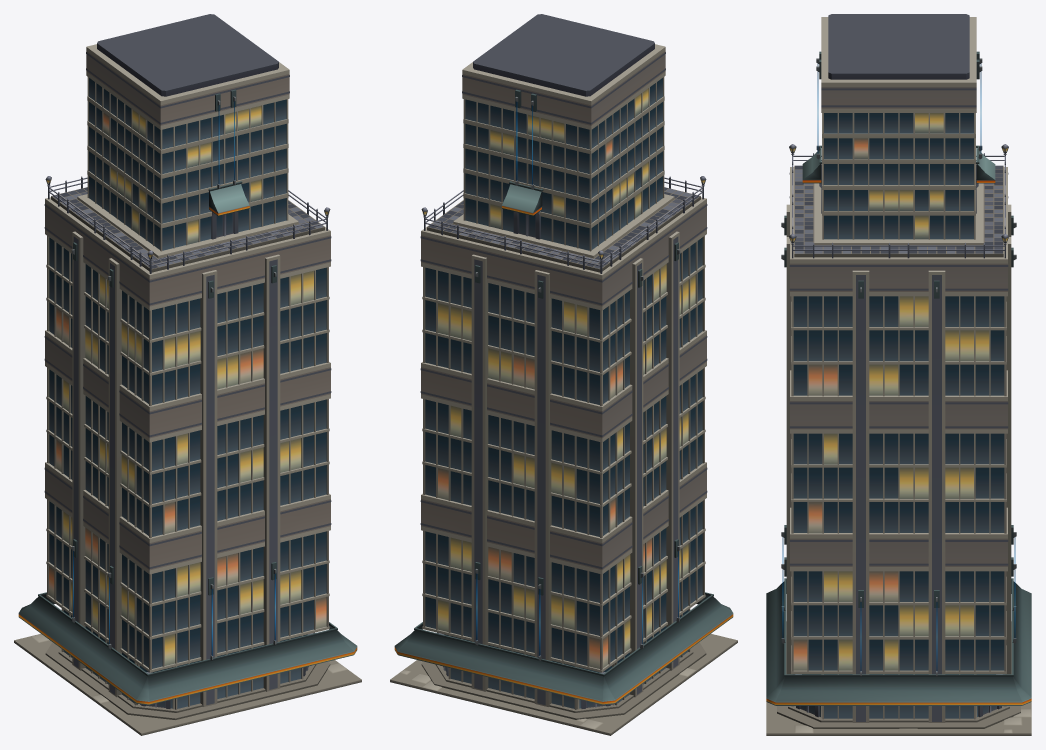
The model's file is Skyscraper_1C.fbx.
3 renders of one model, left to right at view 1: azimuth 30°, elevation 25°; view 2: azimuth 150°, elevation 25°; view 3: azimuth 270°, elevation 25°, orthographic. The views are drawn at different scales.
Visible parts, largest first — view 1: Skyscraper_1C, Window_Lights_Skyscraper_1C, Skyscraper_Canopy_1C; view 2: Skyscraper_1C, Window_Lights_Skyscraper_1C, Skyscraper_Canopy_1C; view 3: Skyscraper_1C, Skyscraper_Canopy_1C, Window_Lights_Skyscraper_1C.
Boxes of the visible parts, box(x1,y1,x2,y2) form: Skyscraper_1C: box(14, 14, 361, 735); Window_Lights_Skyscraper_1C: box(49, 105, 326, 665); Skyscraper_Canopy_1C: box(18, 89, 357, 705); Skyscraper_1C: box(390, 14, 737, 735); Window_Lights_Skyscraper_1C: box(438, 88, 695, 668); Skyscraper_Canopy_1C: box(394, 89, 733, 705); Skyscraper_1C: box(766, 14, 1031, 735); Skyscraper_Canopy_1C: box(766, 51, 1031, 705); Window_Lights_Skyscraper_1C: box(793, 113, 989, 670).
Size of the model in its own units: 2801 by 7400 by 2801.
